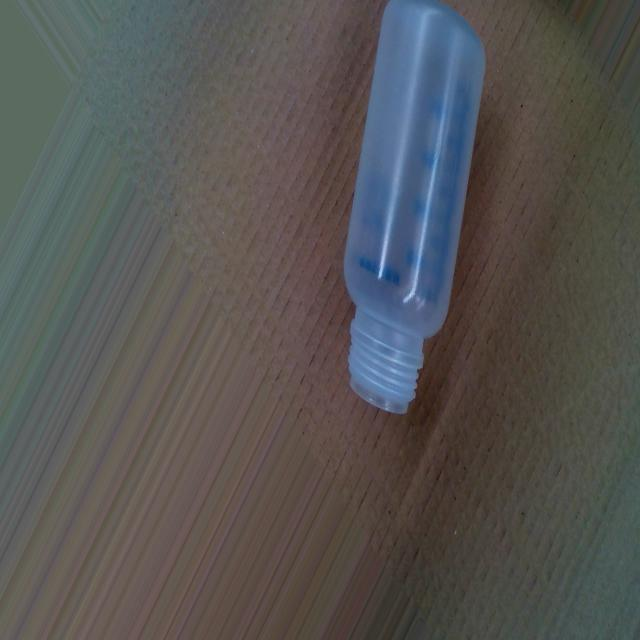bottle: (342, 0, 486, 419)
